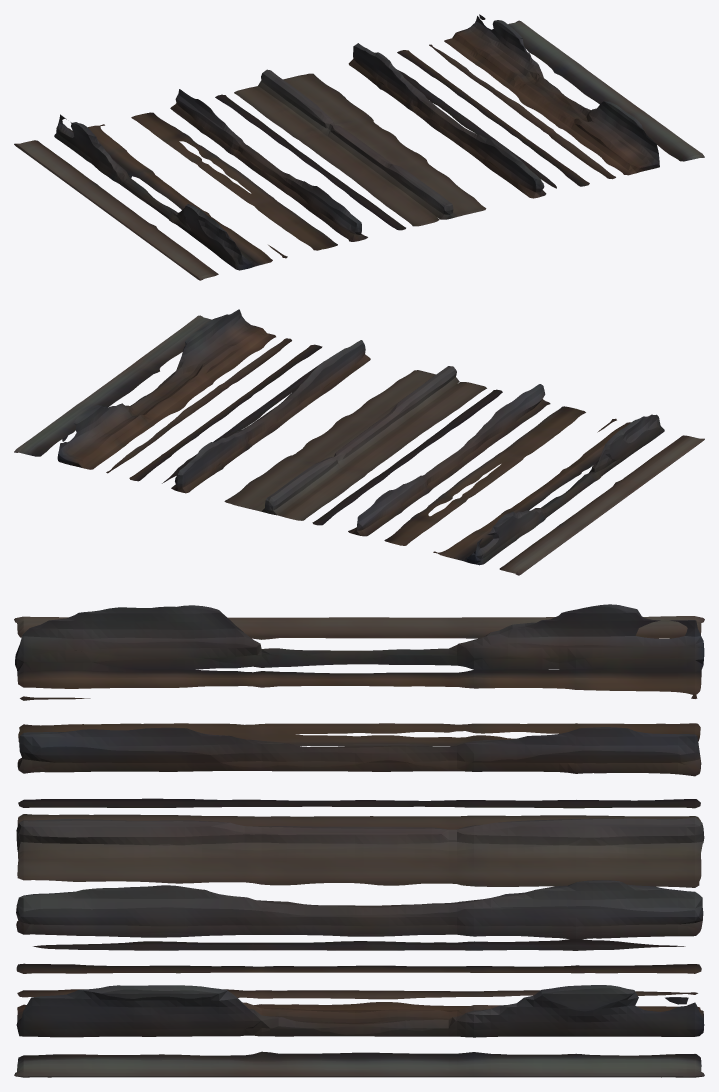
3 renders of one model, top to bottom at view 1: azimuth 30°, elevation 25°; view 2: azimuth 150°, elevation 25°; view 3: azimuth 270°, elevation 25°, orthographic. The views are drawn at different scales.
Visible parts, largest first — view 1: tmpvrgdlur3.ply; view 2: tmpvrgdlur3.ply; view 3: tmpvrgdlur3.ply.
Part boxes in pixels (x1=…): tmpvrgdlur3.ply: x1=14, y1=14, x2=704, y2=280; tmpvrgdlur3.ply: x1=14, y1=309, x2=704, y2=575; tmpvrgdlur3.ply: x1=14, y1=604, x2=704, y2=1077.
Size of the model in its own units: 1.98 by 0.1094 by 1.26.
